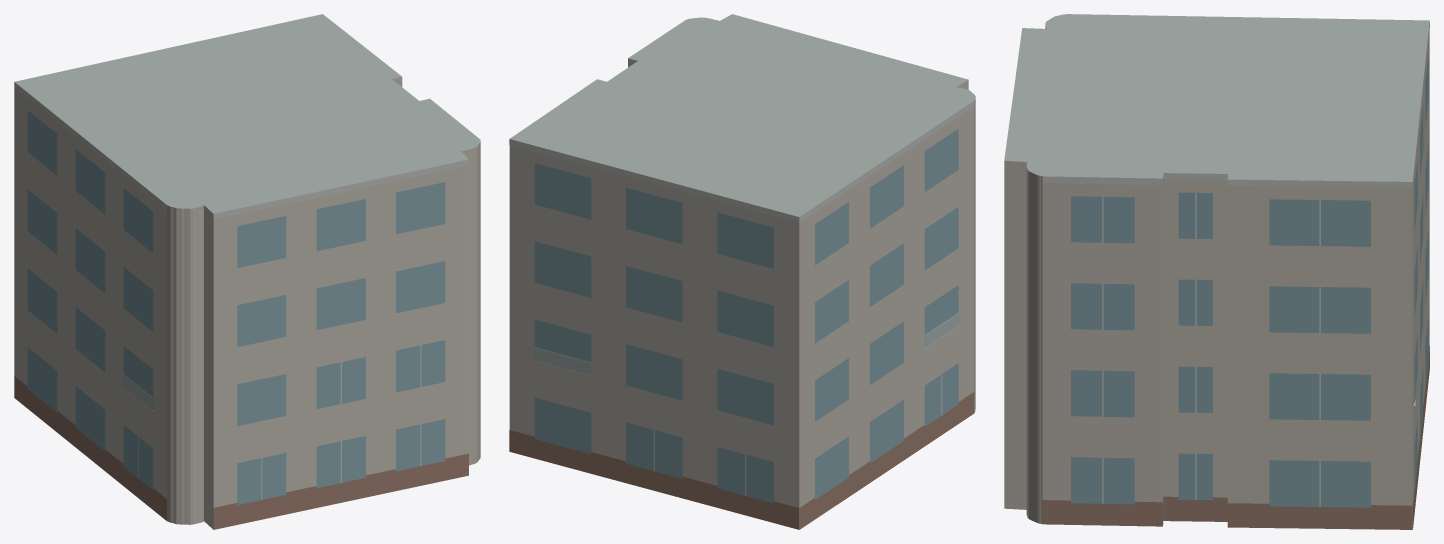
Rendered from survey-upis-32655672.glb.
3 views of the same model, side by side, from view 1: azimuth 30°, elevation 25°; view 2: azimuth 150°, elevation 25°; view 3: azimuth 270°, elevation 25° (orthographic). The views are drawn at different scales.
Parts seen in each view (by area): view 1: survey-upis-32655672.tmp; view 2: survey-upis-32655672.tmp; view 3: survey-upis-32655672.tmp.
Boxes of the visible parts, x1=… form: survey-upis-32655672.tmp: x1=14, y1=14, x2=480, y2=529; survey-upis-32655672.tmp: x1=509, y1=14, x2=975, y2=529; survey-upis-32655672.tmp: x1=1004, y1=14, x2=1429, y2=529.
Size of the model in its own units: 13.36 by 12.9 by 14.31.
